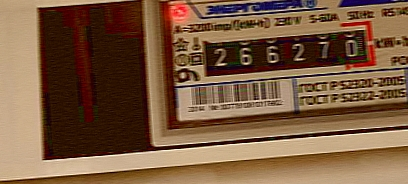0: (343, 36, 356, 58)
2: (211, 45, 227, 67), (290, 40, 303, 62)
6: (237, 45, 252, 66), (263, 43, 277, 63)
7: (315, 38, 329, 60)
screen: (191, 15, 381, 86)
